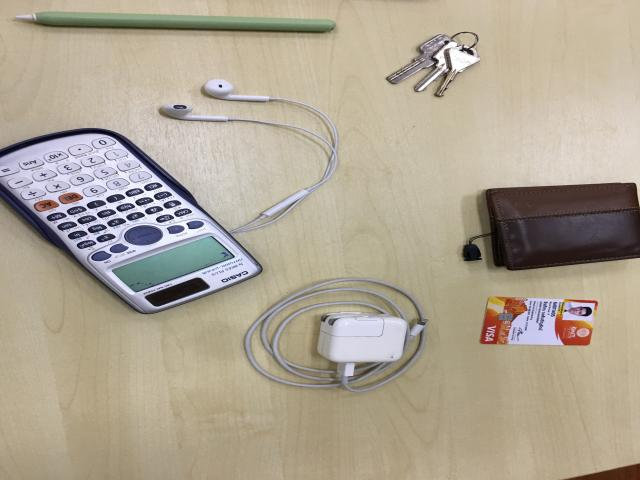Keys: (387, 33, 482, 99)
Wallet: (484, 185, 640, 272)
wire: (155, 80, 337, 231), (242, 279, 429, 396)
